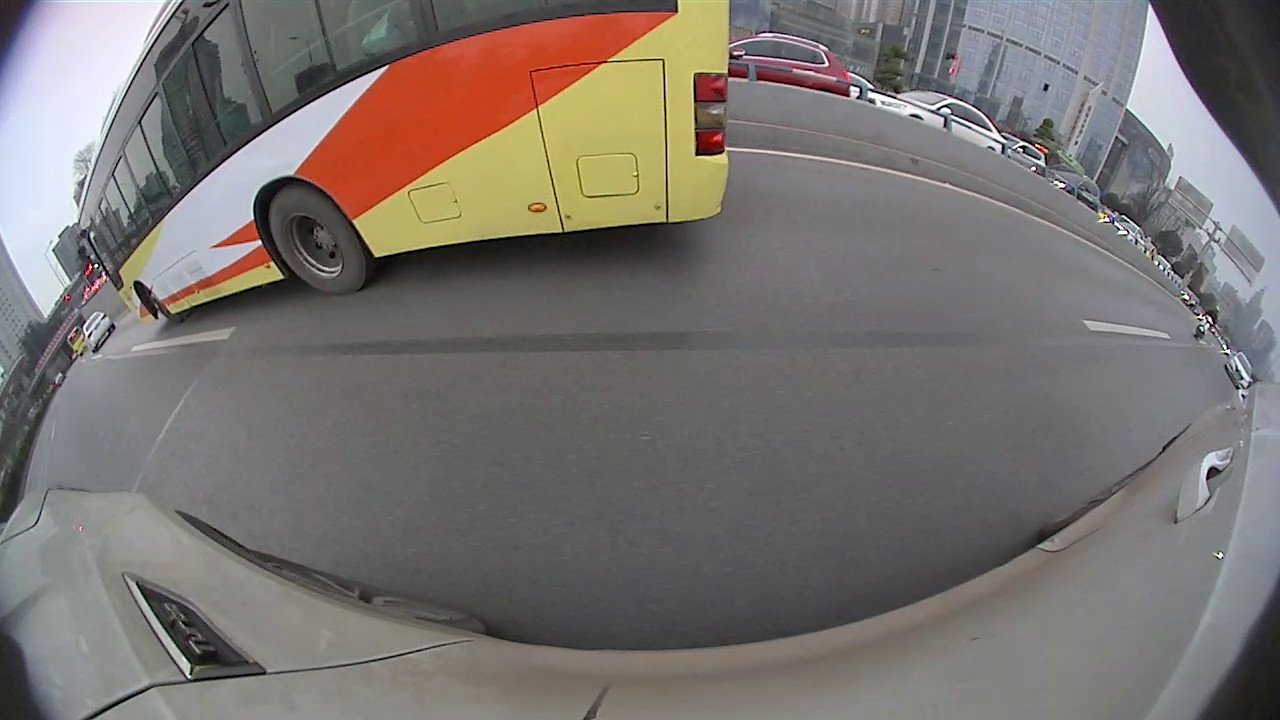bus: (749, 118, 832, 177), (691, 142, 740, 175)
car: (1, 133, 424, 499), (742, 124, 1021, 276), (1015, 199, 1086, 262), (509, 154, 571, 201), (621, 157, 650, 183), (570, 159, 599, 184)
front: (366, 213, 415, 282), (1121, 273, 1143, 303), (744, 181, 761, 219)
rear: (55, 349, 179, 498), (825, 199, 867, 263), (1196, 322, 1226, 358), (1032, 235, 1051, 258)
truck: (1112, 218, 1278, 371)
